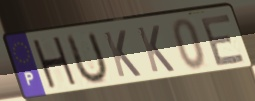0: (171, 16, 210, 73)
E: (199, 12, 248, 69)
H: (29, 34, 81, 93)
K: (101, 28, 144, 79), (135, 23, 177, 74)
U: (65, 30, 110, 88)
